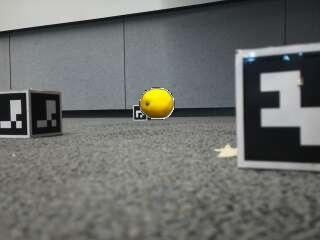lemon: (141, 89, 173, 118)
